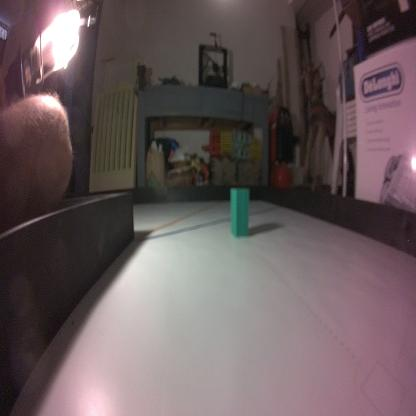green: (229, 186, 252, 239)
